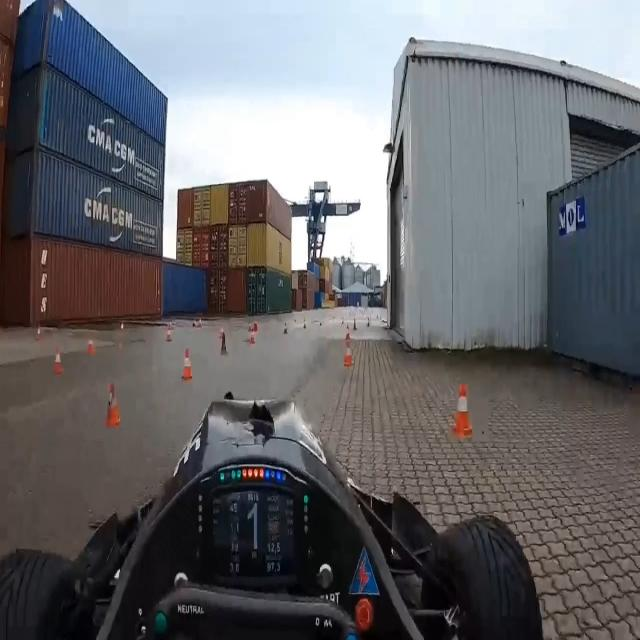Green cone: (212, 318, 236, 368)
Orange cone: (446, 362, 480, 456), (168, 337, 198, 400), (280, 307, 330, 340), (102, 367, 124, 437), (334, 327, 359, 382), (243, 302, 262, 368), (48, 342, 72, 386), (82, 335, 102, 365), (33, 316, 46, 348)
